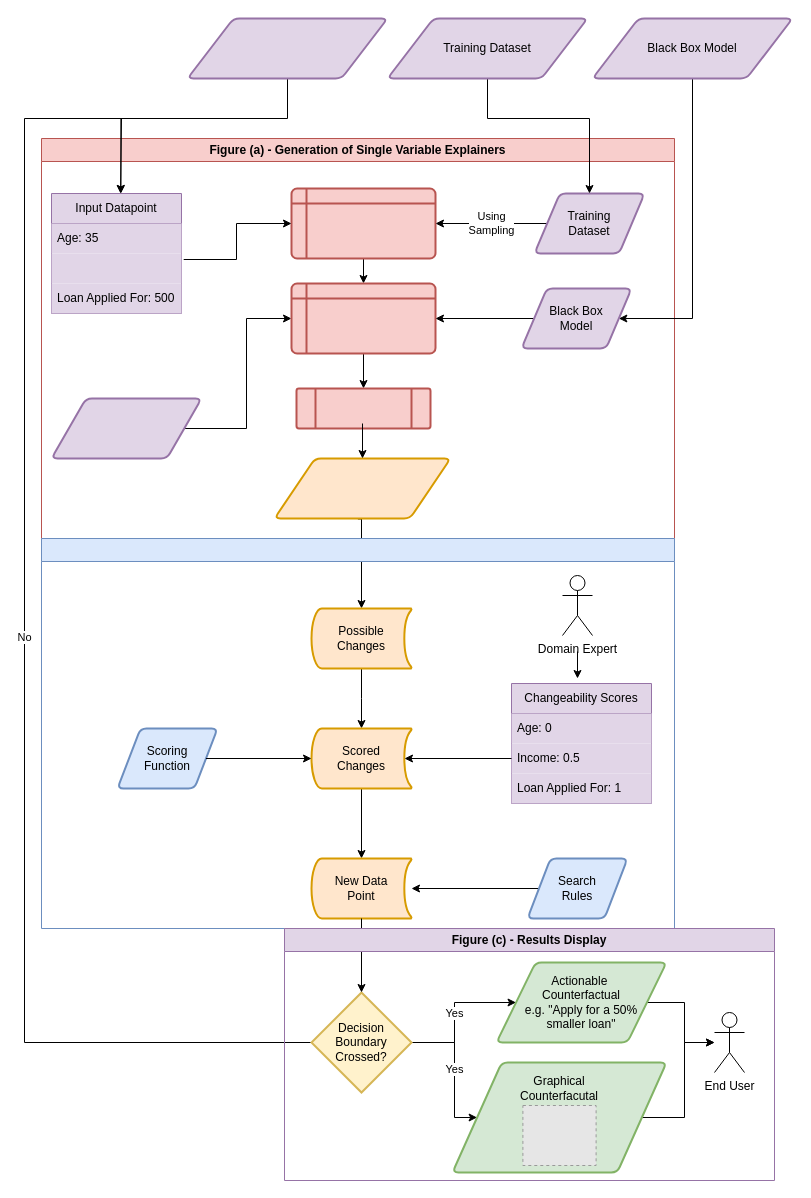
Image size: 811x1198. Some labels were removed from this diagram. Grey dashed boxes stand in for pictures. The shapes that lost their labels are listed below. From the top down, each one's centre as x and y in pixels, then its label:
the point at 287,48: Explanation Datapoint
the point at 363,223: Modified Data Points
the point at 116,268: Income: 30000
the point at 363,318: Training set for Surrogate Model
the point at 126,428: Choice of any SKLearn Model
the point at 363,408: Train Surrogate Model
the point at 362,488: Single Variable Explainer
the point at 357,733: Figure (b) - Search Process
